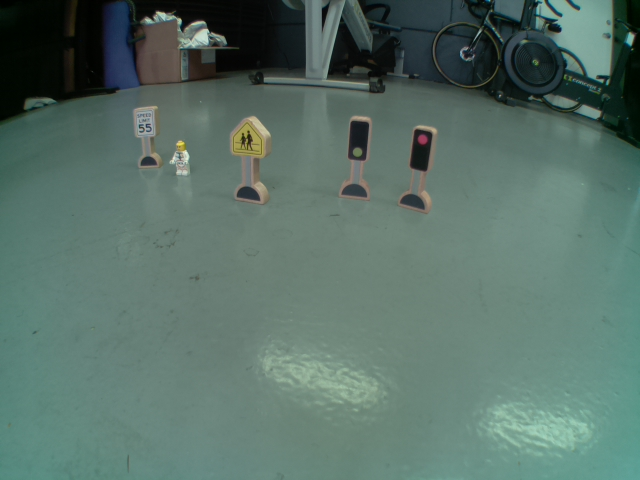Green Traffic Light: (345, 111, 370, 162)
Red Traffic Light: (406, 125, 435, 175)
Speed Limit 55: (130, 107, 157, 140)
YIELD: (226, 116, 270, 161)
person: (167, 139, 194, 179)
